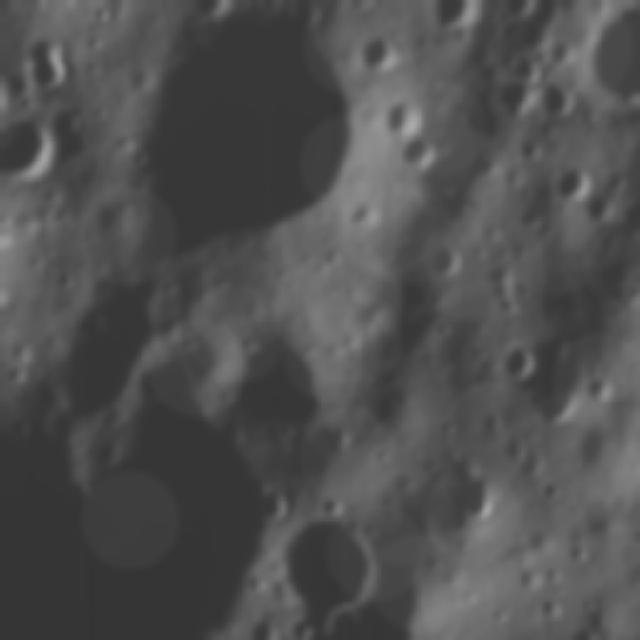crater: (88, 0, 374, 257), (52, 272, 163, 423), (222, 306, 347, 436), (266, 505, 380, 617), (534, 336, 603, 430), (577, 8, 640, 97), (434, 458, 495, 538), (1, 107, 58, 178), (358, 15, 413, 71), (24, 22, 74, 83), (410, 234, 468, 283), (496, 430, 552, 475), (42, 96, 86, 146), (549, 156, 600, 198), (394, 125, 437, 173), (502, 336, 546, 382), (432, 0, 480, 37), (576, 182, 619, 221), (505, 192, 546, 232), (541, 80, 577, 118), (486, 0, 536, 22), (184, 0, 225, 14)
